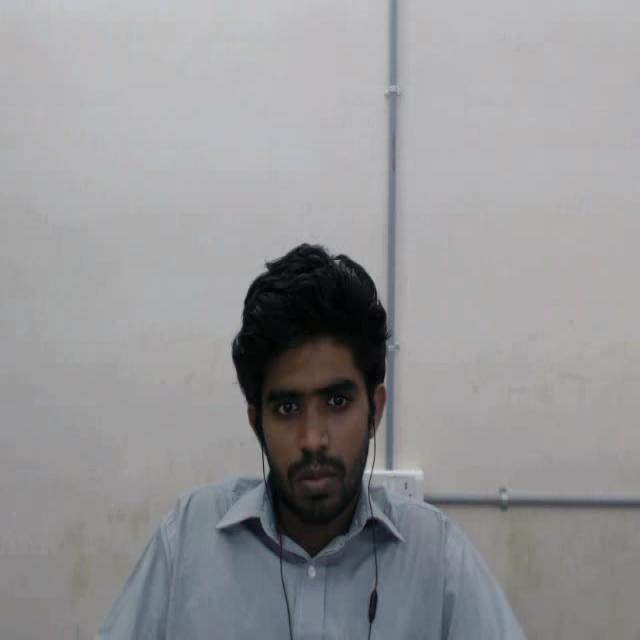Engaged: (224, 237, 408, 537)
